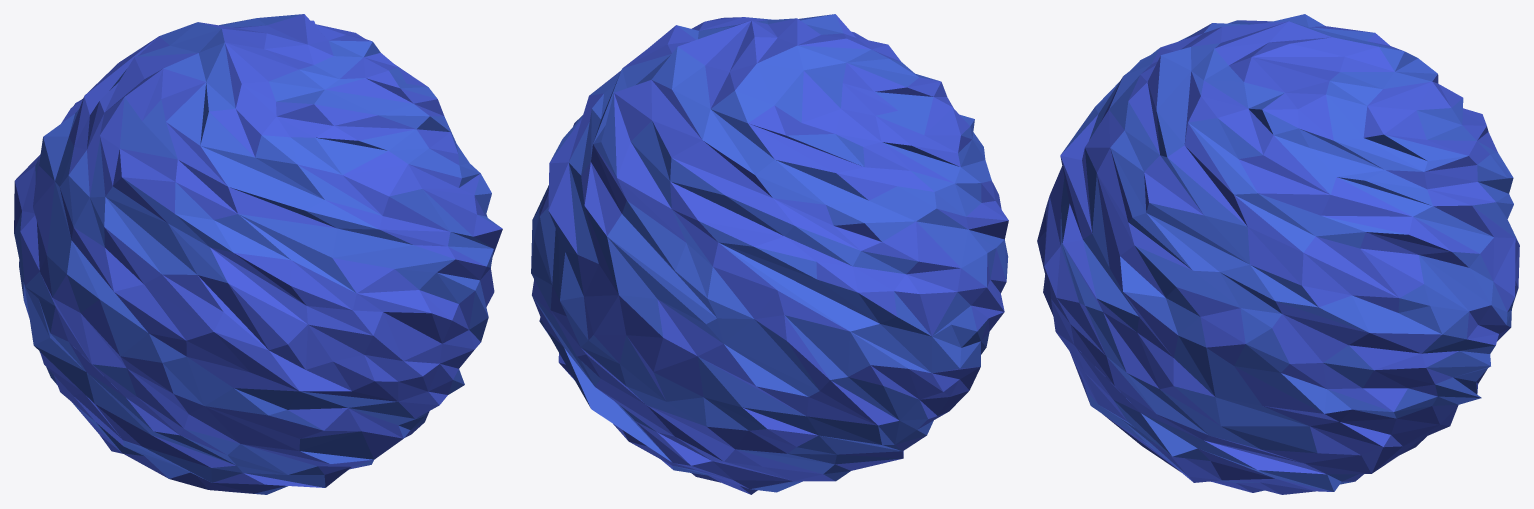
The model's file is Neptune.fbx.
The picture shows the model from 3 angles, left to right: view 1: azimuth 30°, elevation 25°; view 2: azimuth 150°, elevation 25°; view 3: azimuth 270°, elevation 25°; orthographic projection.
Parts seen in each view (by area): view 1: Neptune; view 2: Neptune; view 3: Neptune.
Part boxes in pixels (x1,y1,x2,y2): Neptune: (14,14,502,494); Neptune: (531,14,1008,494); Neptune: (1037,14,1519,494).
Bounding box in the file's own units: 35.61 × 35.61 × 35.55.
Materials: 1 (1 with a texture image).
